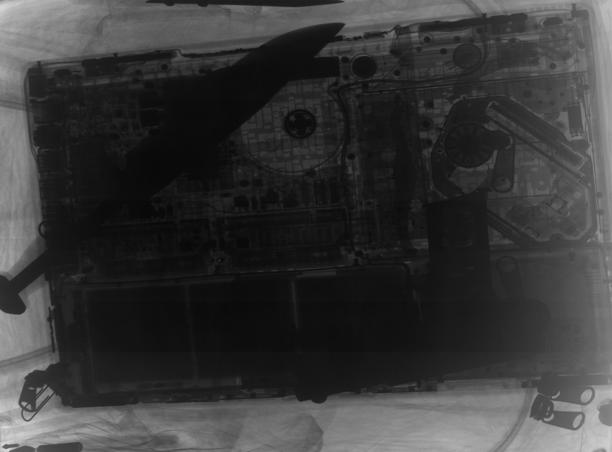Handgun: (288, 185, 555, 411)
Knife: (1, 19, 349, 319)
